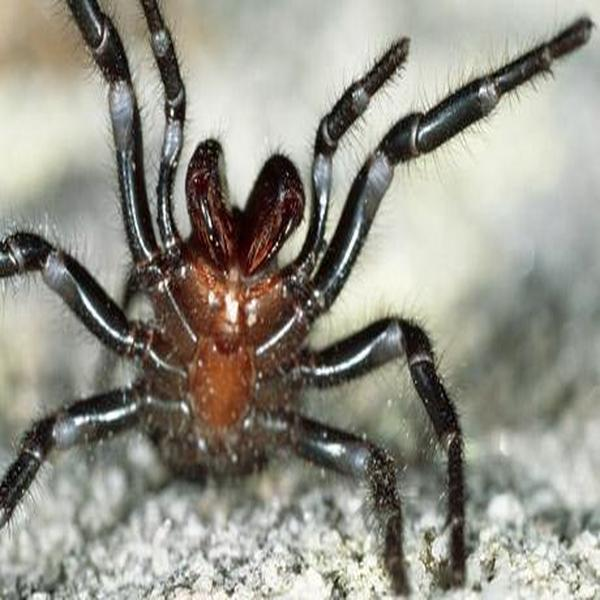Funnel Web Spider: (6, 1, 570, 578)
